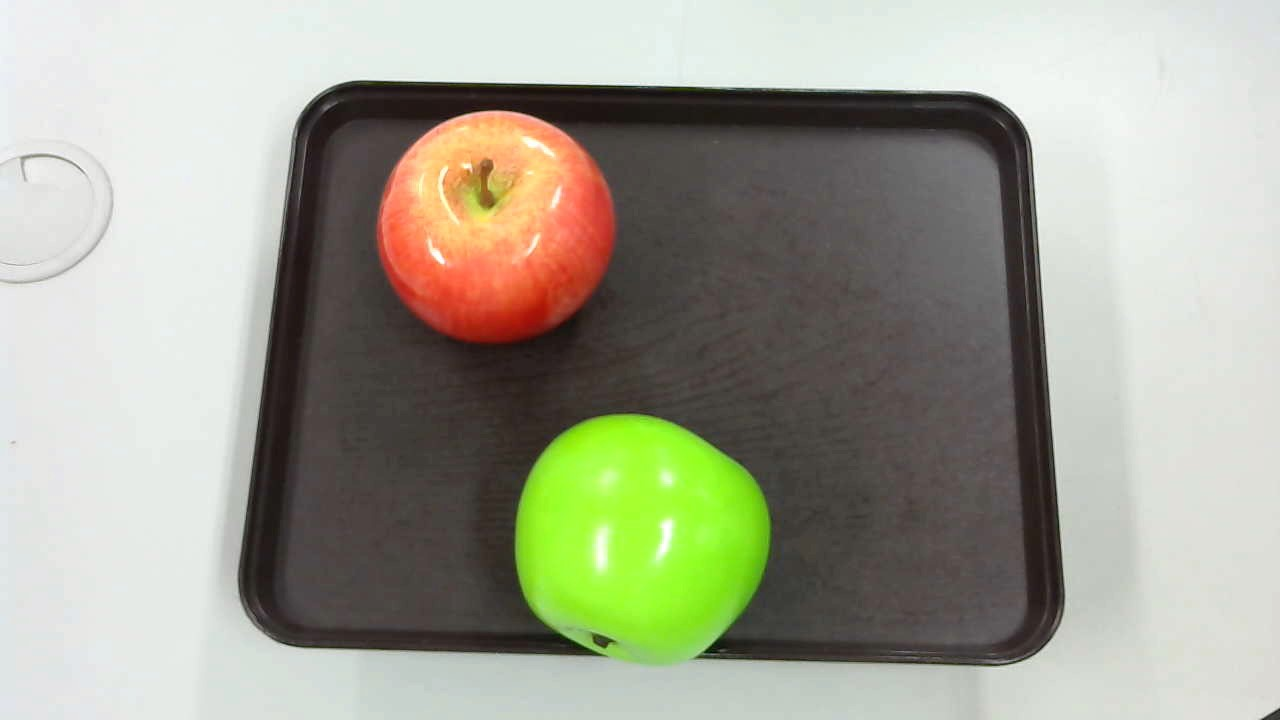green apple: (512, 411, 775, 669)
red apple: (369, 110, 618, 341)
